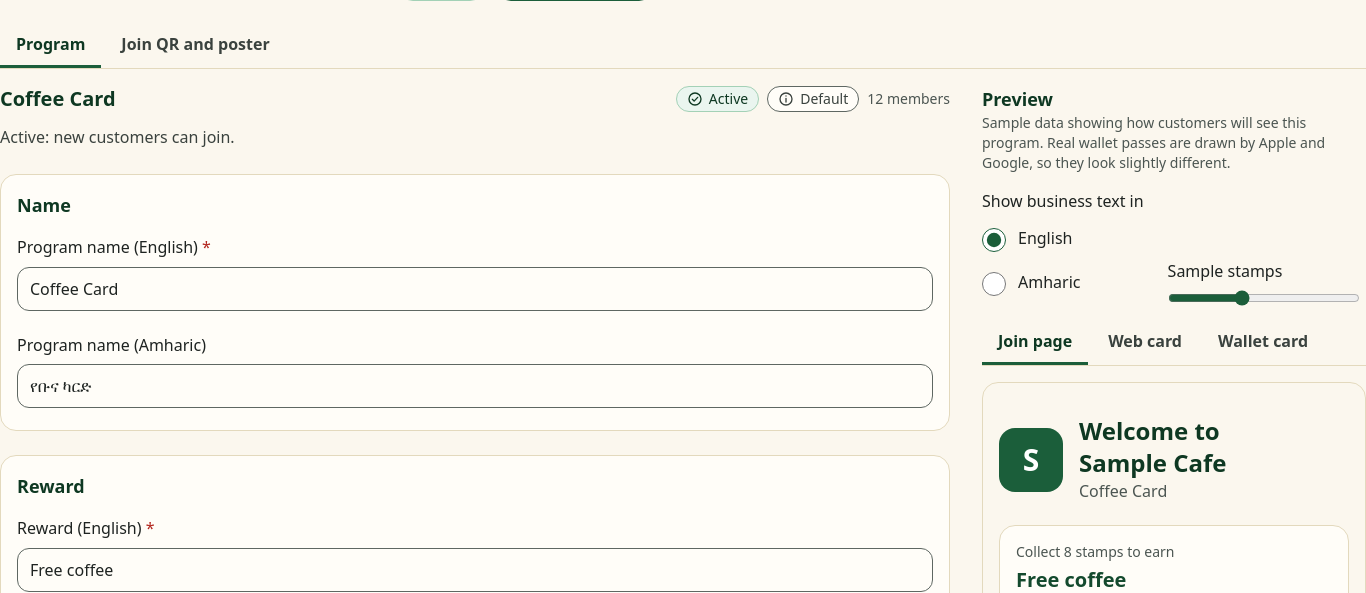
Scenario: editing and saving › shows the backend's own limits as instant messages and sends nothing when invalid
Expected: the heading "Coffee Card" is shown, [0, 85, 116, 113]
Clear the field labelled "Program name (English) *" at coordinates (475, 289), box [17, 267, 933, 311]
(page scrolled)
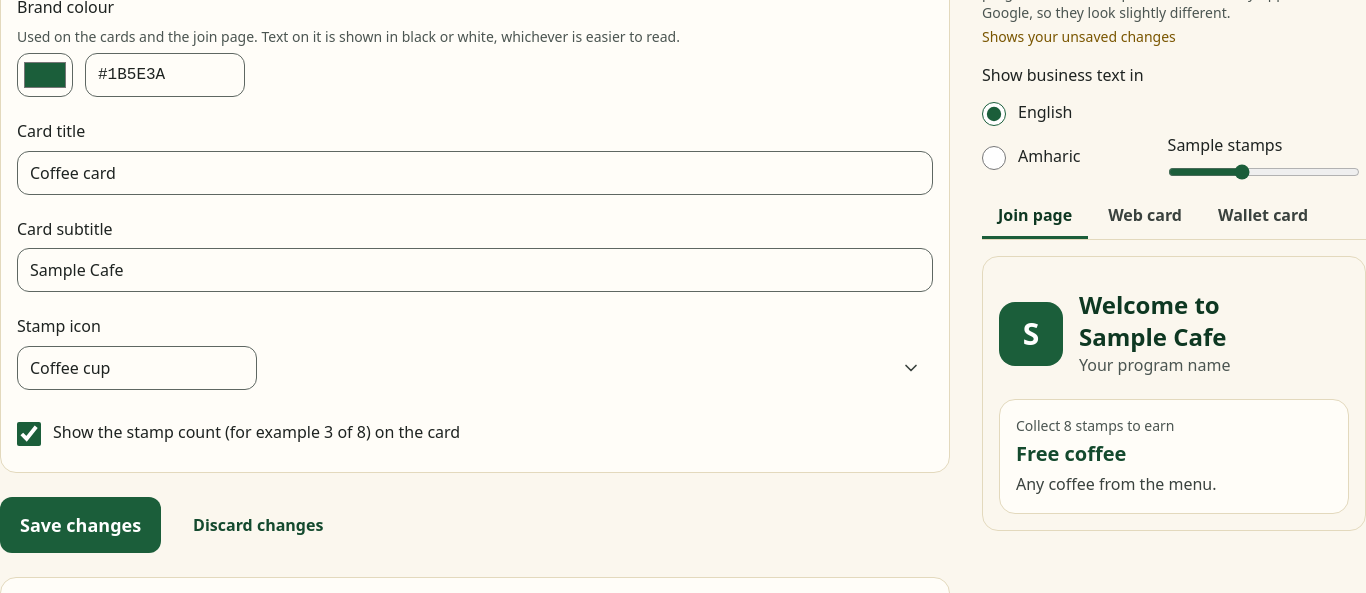
Click the button "Save changes" at coordinates (81, 525), box [0, 497, 161, 553]
(page scrolled)
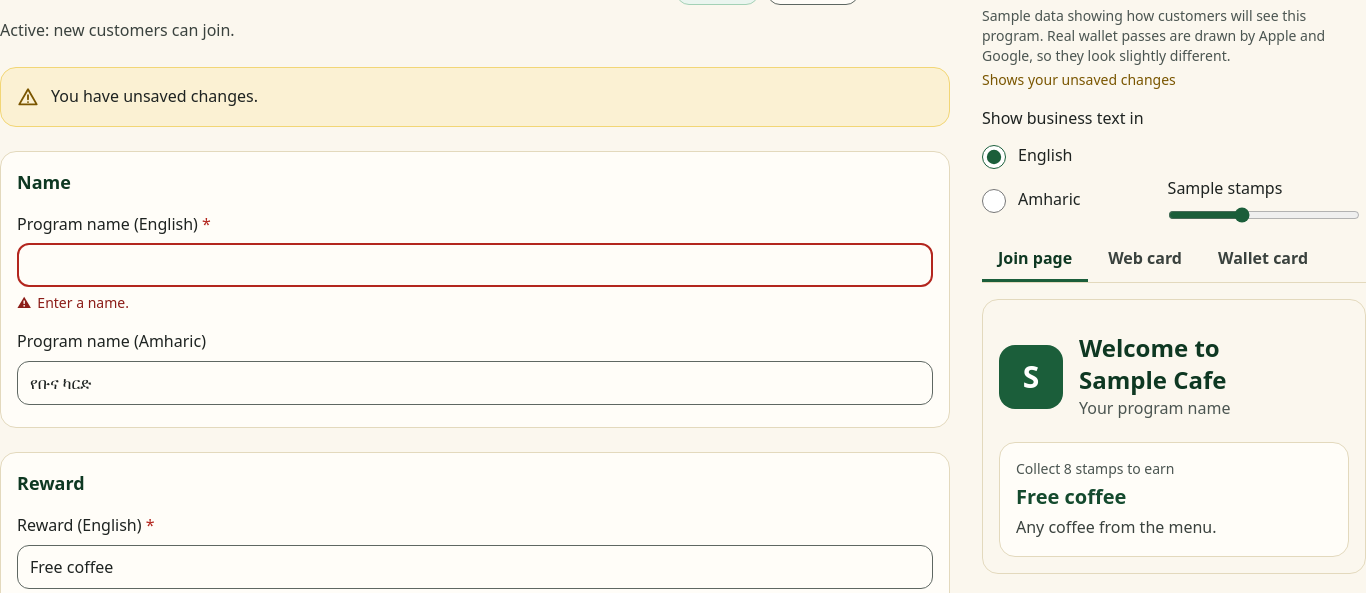
Now the text "Enter a name." is shown, box [37, 293, 129, 313]
